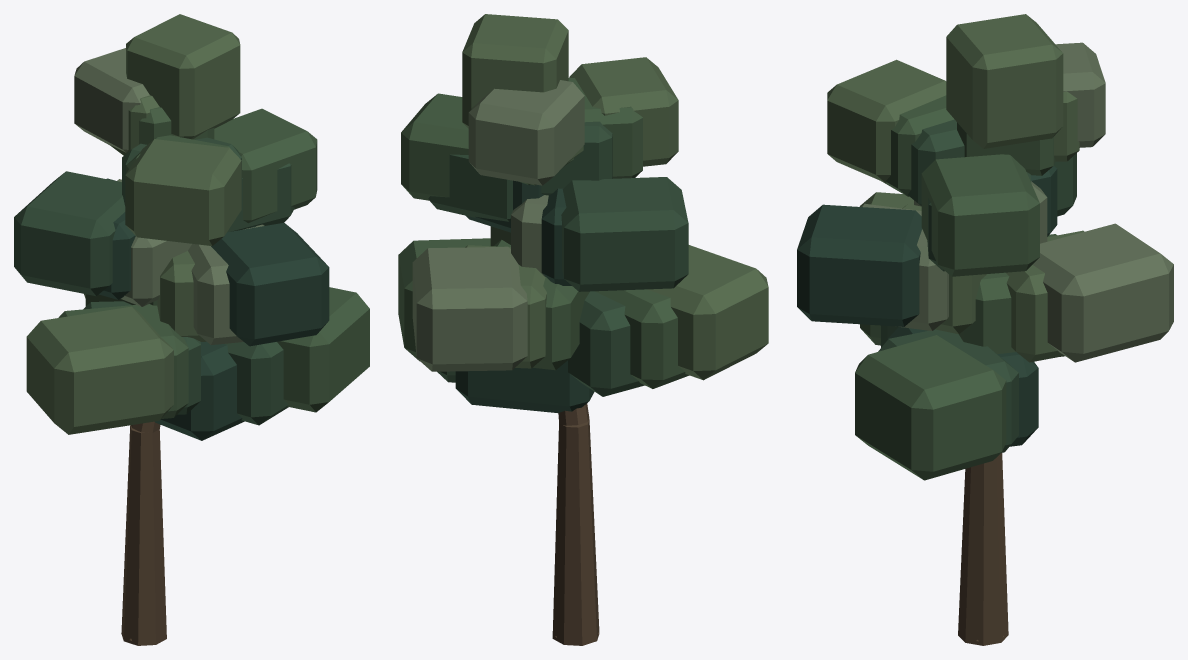
File: juniper_mature_2_picked.glb
3 renders of one model, left to right at view 1: azimuth 30°, elevation 25°; view 2: azimuth 150°, elevation 25°; view 3: azimuth 270°, elevation 25°, orthographic. The views are drawn at different scales.
Parts seen in each view (by area): view 1: juniper_mature_2_picked; view 2: juniper_mature_2_picked; view 3: juniper_mature_2_picked.
Part boxes in pixels (x1,y1,x2,y2): juniper_mature_2_picked: (14,14,369,645); juniper_mature_2_picked: (398,14,768,645); juniper_mature_2_picked: (797,14,1173,645).
Bounding box in the file's own units: 7.2 × 12 × 6.54.
